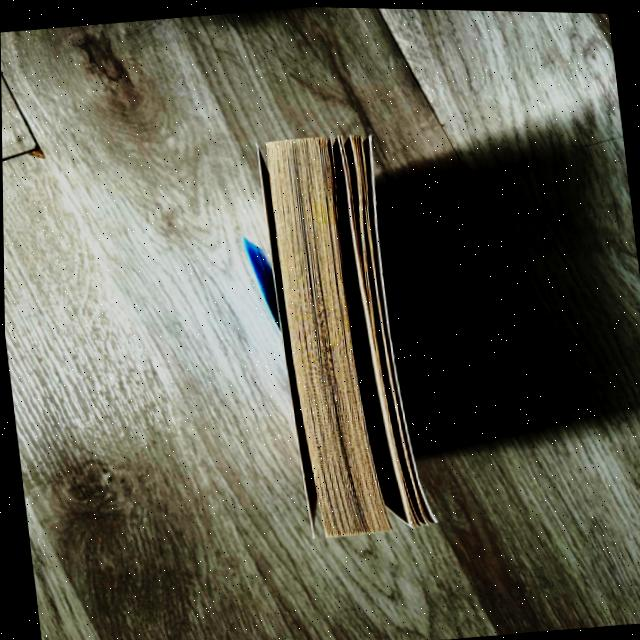Book: (253, 130, 431, 536)
